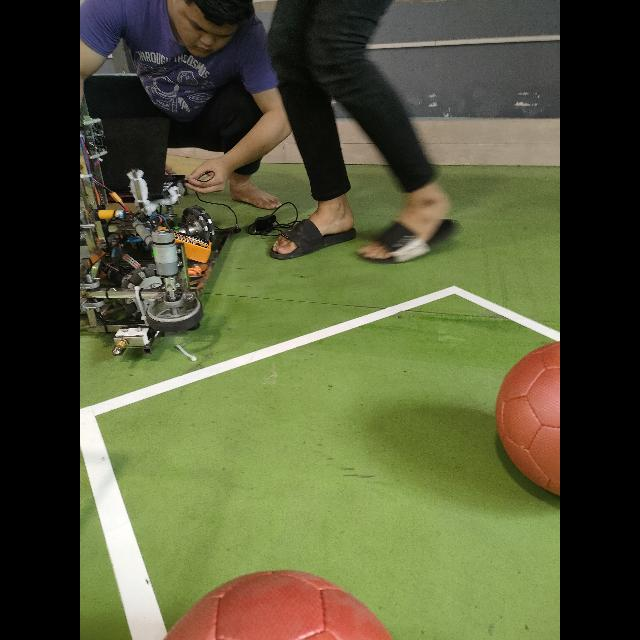R: (156, 570, 396, 638), (495, 342, 559, 500)
